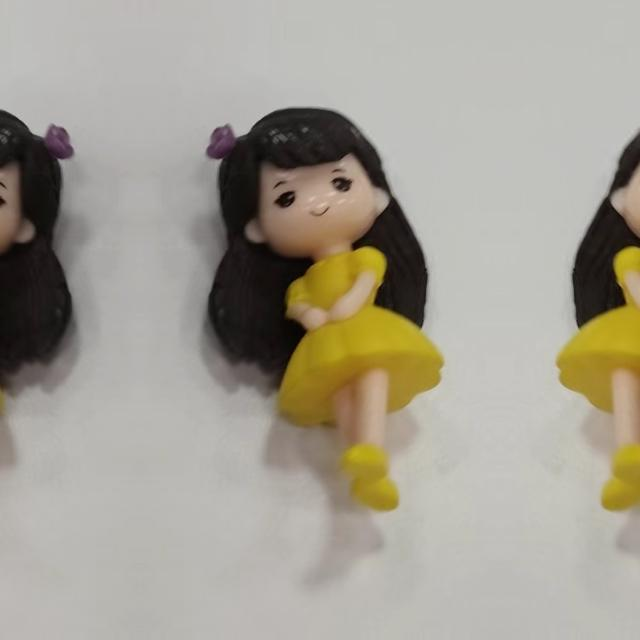woman dress: (263, 232, 453, 516), (547, 232, 640, 516), (0, 232, 17, 516)
woman head: (200, 121, 388, 253), (0, 121, 80, 253), (612, 121, 640, 253)
